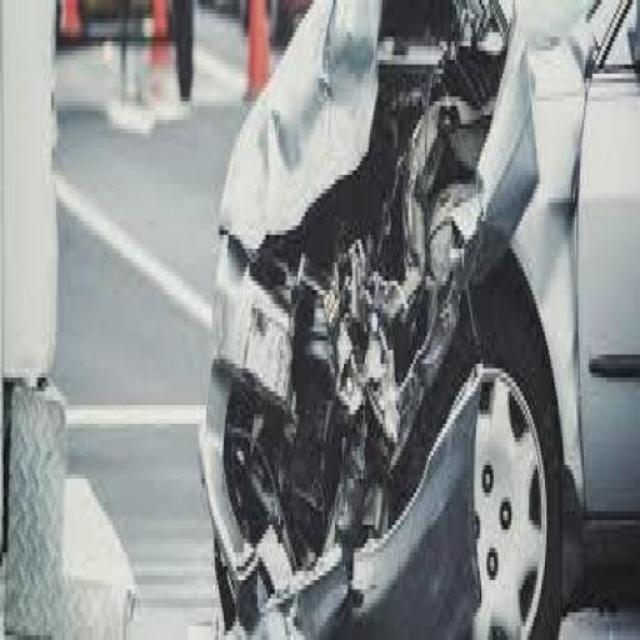crash: (199, 3, 580, 636)
